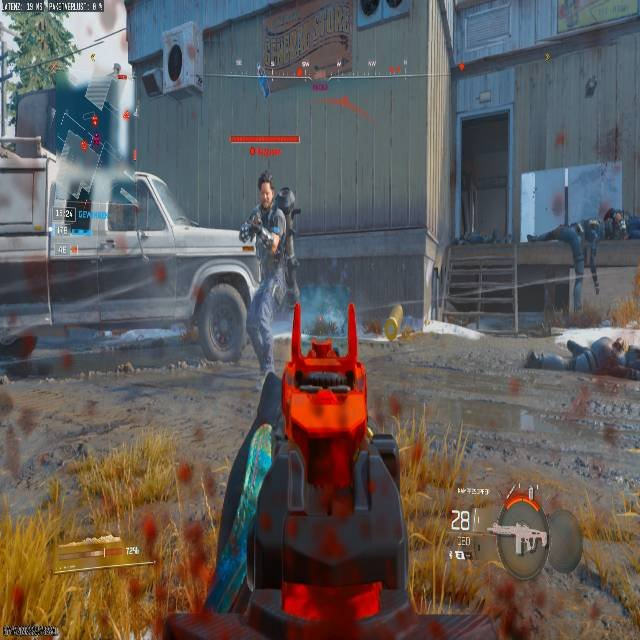head: (495, 490, 548, 573), (257, 169, 274, 207), (260, 163, 272, 182)
player: (237, 168, 300, 370), (251, 170, 296, 227), (65, 185, 93, 234)
